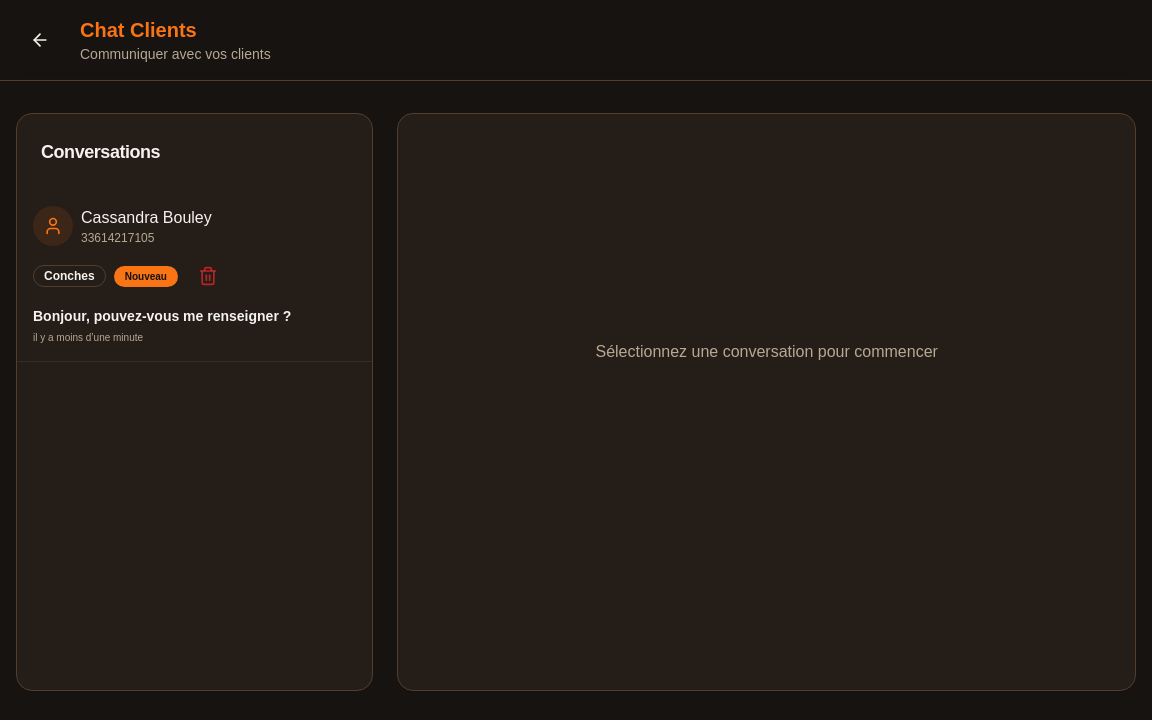
Test: AdminChatPage › affiche Nouveau pour un message non lu puis le retire à l’ouverture
expect the text "Nouveau" is shown: met, box x1=114 y1=266 x2=178 y2=286
What coordinates should you click on to do the following:
click the button "Cassandra Bouley"
I would click on:
 (195, 276)
Its box is x1=17 y1=190 x2=372 y2=362.
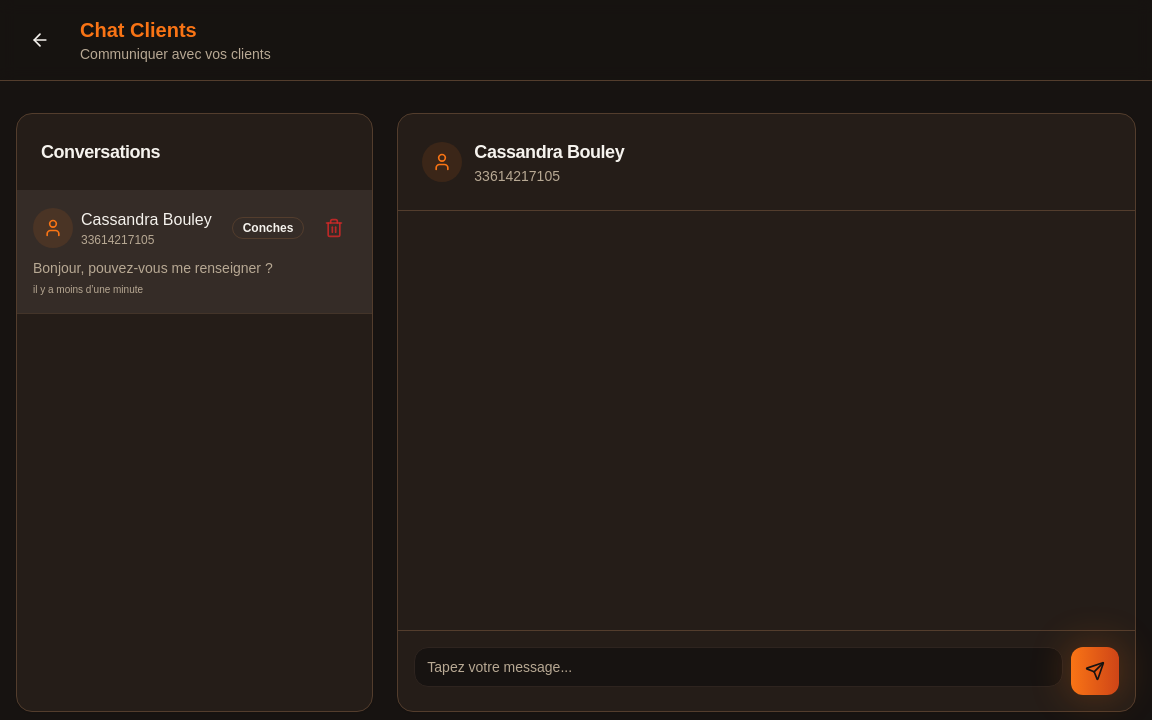
expect the text "Bonjour, pouvez-vous me renseigner ?" is shown: met, box x1=33 y1=260 x2=273 y2=276
expect the text "Nouveau" is gone: met
